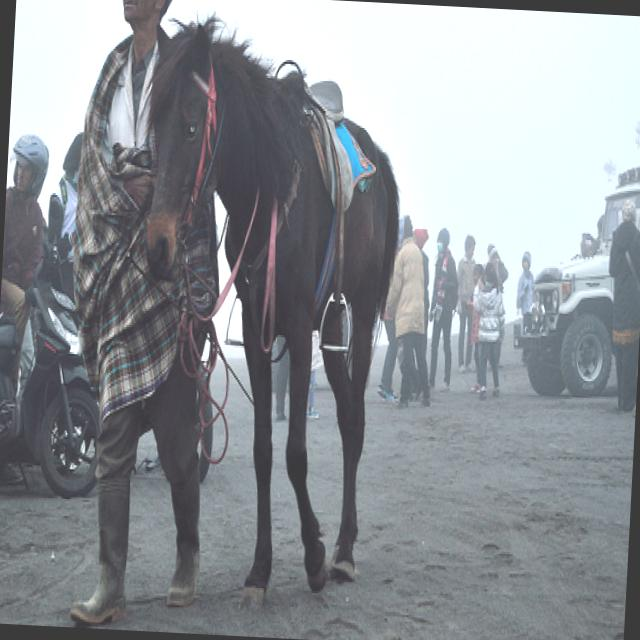Vehicle: (511, 159, 640, 410), (0, 280, 109, 505)
